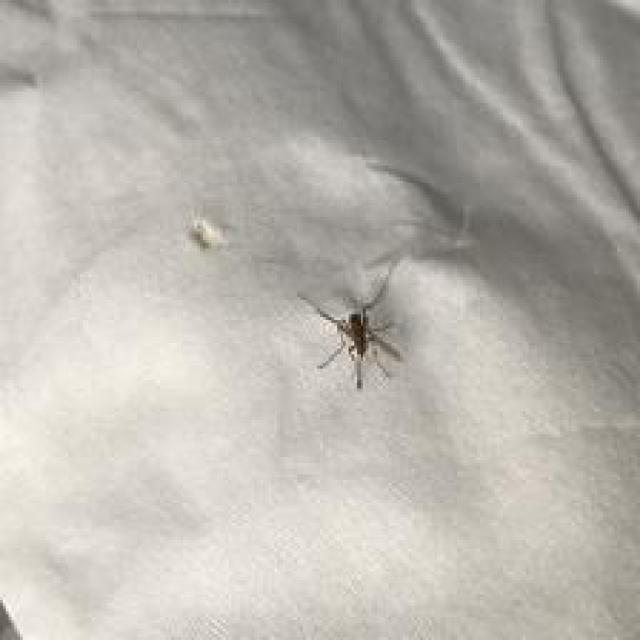Culex: (296, 259, 407, 390)
